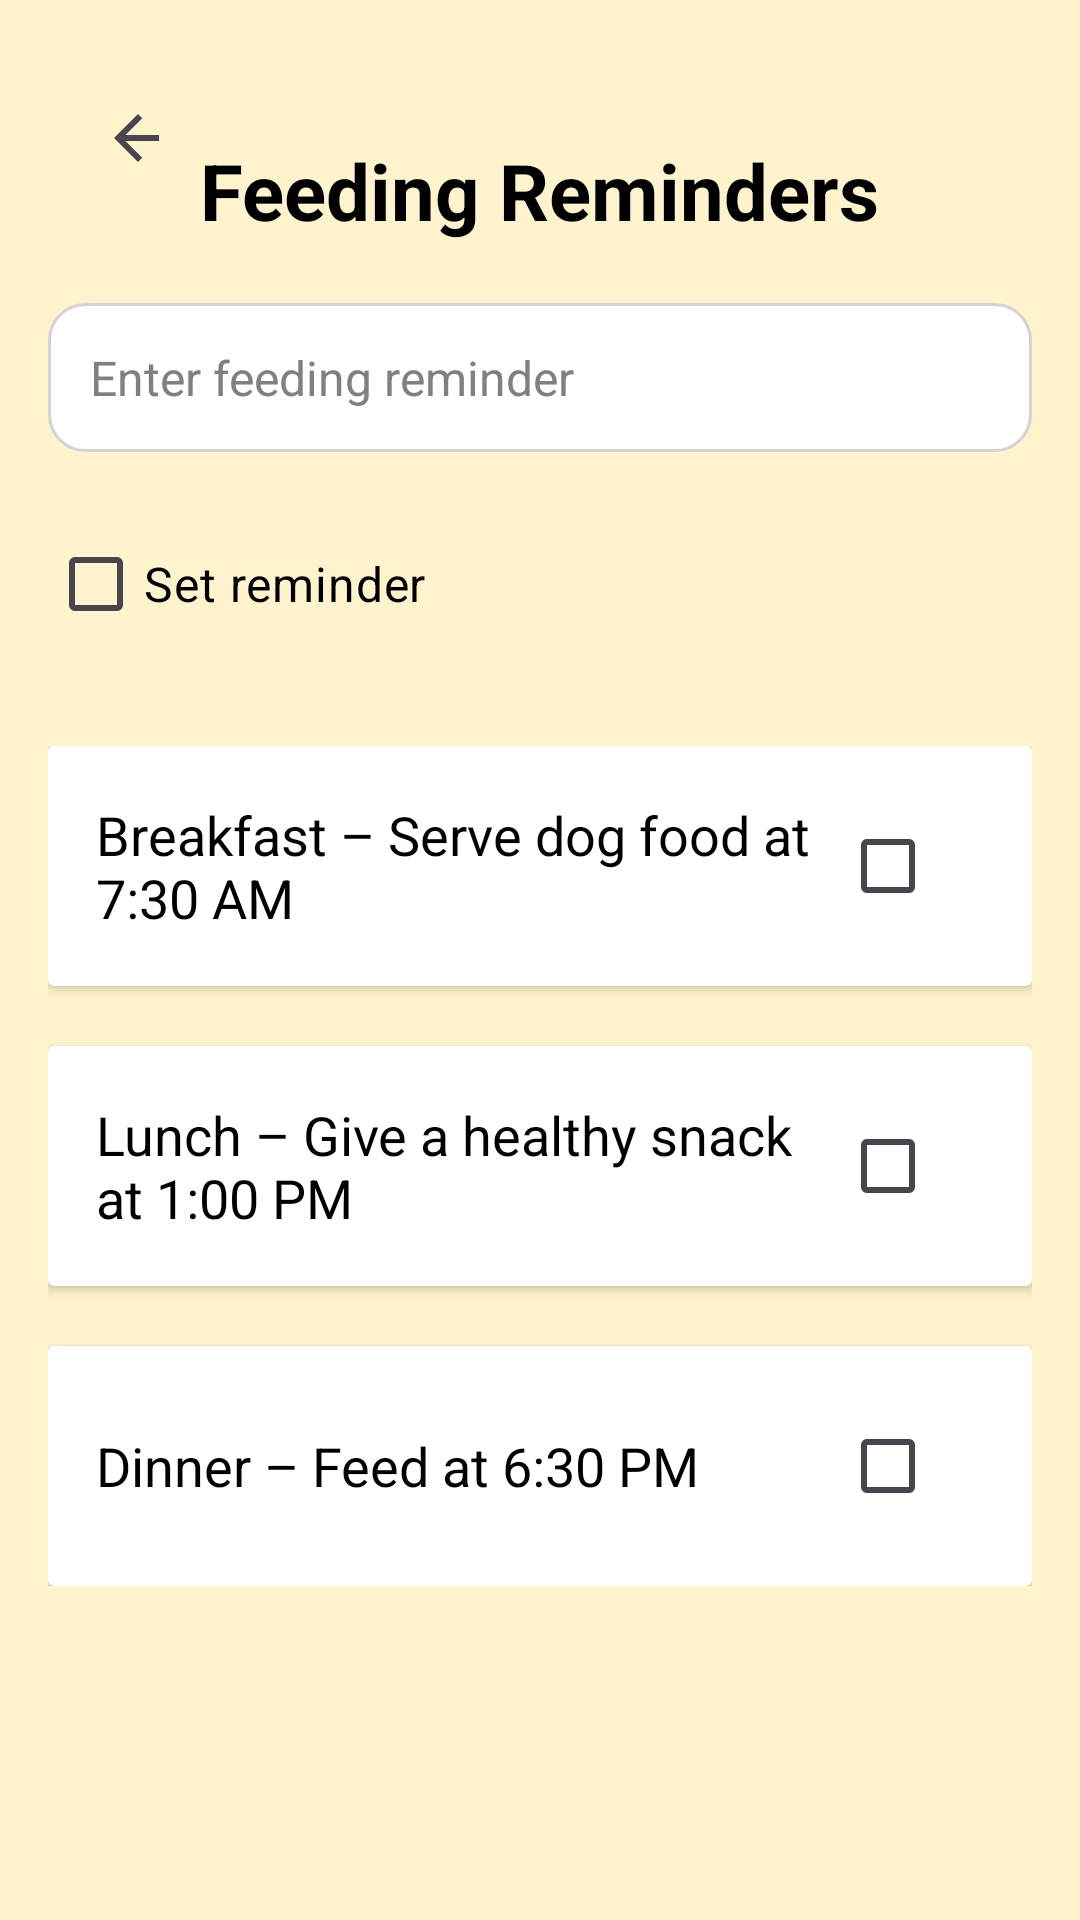

Icon bounding boxes for this 1080 x 1920 phone screenshot, format (x1=x1, y1=y1, x2=x2, y2=y2):
Back: (x1=114, y1=114, x2=159, y2=162)
